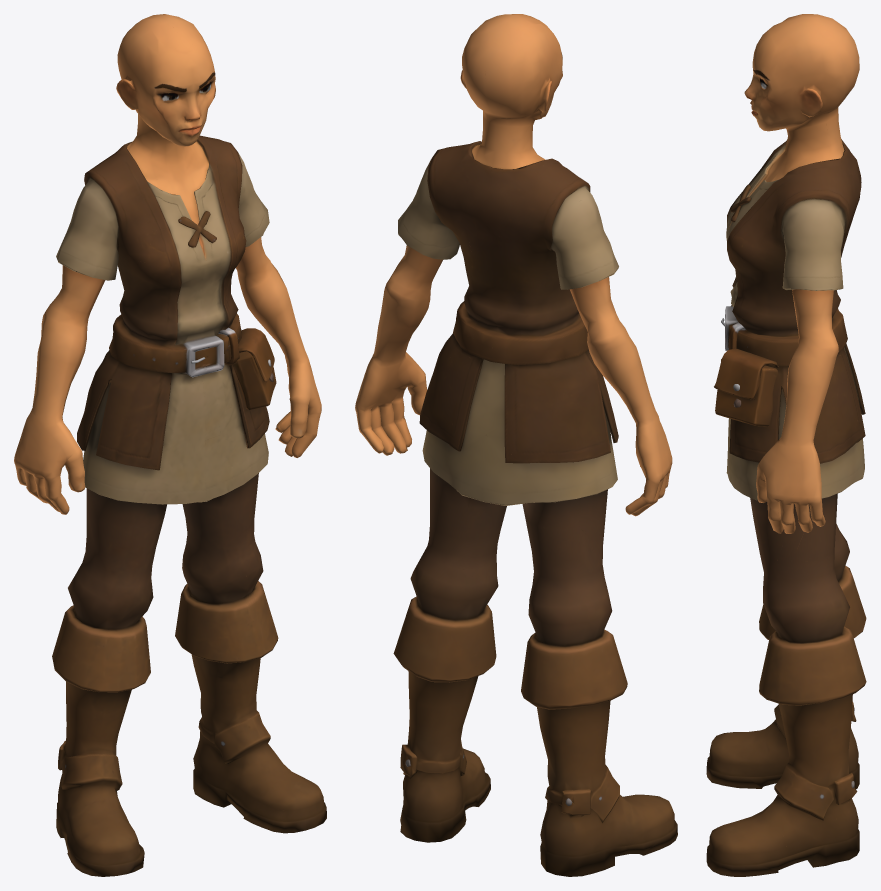
The model's file is meshy-basis.glb.
The picture shows the model from 3 angles, left to right: view 1: azimuth 30°, elevation 25°; view 2: azimuth 150°, elevation 25°; view 3: azimuth 270°, elevation 25°; orthographic projection. The views are drawn at different scales.
Visible parts, largest first — view 1: geometry_0; view 2: geometry_0; view 3: geometry_0.
Part boxes in pixels (box(x1,y1,x2,y2)): geometry_0: box(14, 14, 326, 876); geometry_0: box(355, 14, 677, 876); geometry_0: box(706, 14, 866, 876).
Bounding box in the file's own units: 0.3677 × 0.9507 × 0.1724.
Materials: 1 (1 with a texture image).
